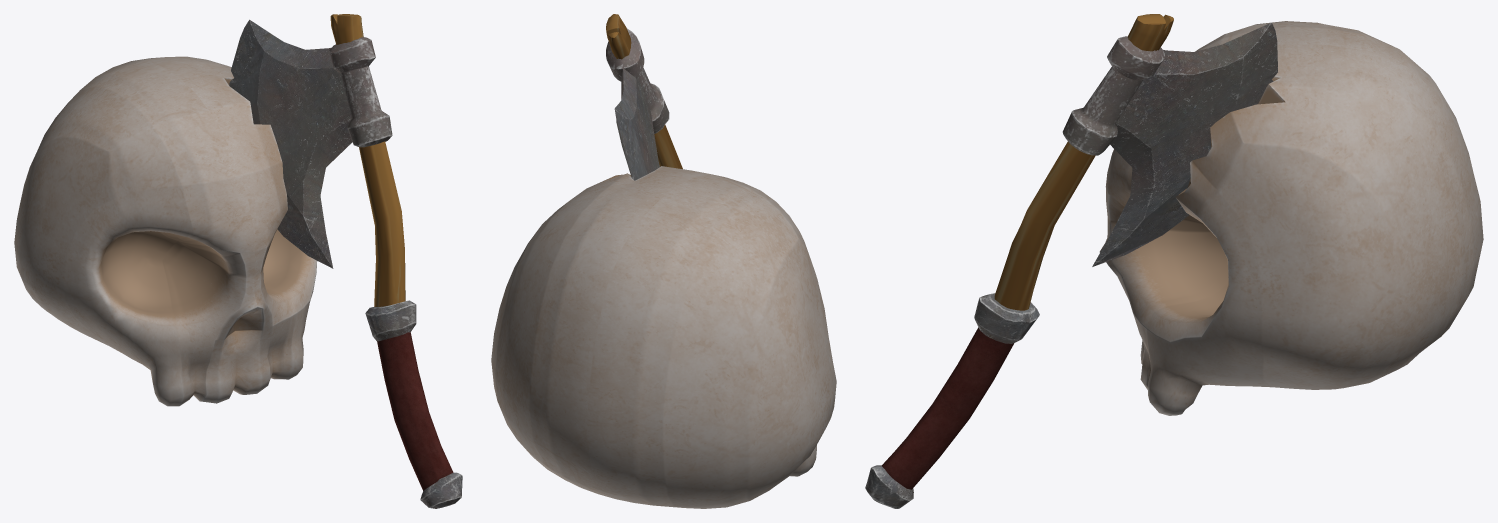
Rendered from raul_lowpoly.fbx.
3 views of the same model, side by side, from view 1: azimuth 30°, elevation 25°; view 2: azimuth 150°, elevation 25°; view 3: azimuth 270°, elevation 25° (orthographic). The views are drawn at different scales.
Parts seen in each view (by area): view 1: raul_lowpoly, raul_lowpoly_axe; view 2: raul_lowpoly, raul_lowpoly_axe; view 3: raul_lowpoly, raul_lowpoly_axe.
Part boxes in pixels (bbox=[...]): raul_lowpoly: bbox=[14, 56, 317, 406]; raul_lowpoly_axe: bbox=[229, 14, 462, 508]; raul_lowpoly: bbox=[491, 166, 836, 508]; raul_lowpoly_axe: bbox=[606, 14, 682, 180]; raul_lowpoly: bbox=[1099, 21, 1483, 415]; raul_lowpoly_axe: bbox=[865, 14, 1277, 508].
Bounding box in the file's own units: 668 × 963 × 1076.
Materials: 2 (2 with a texture image).
